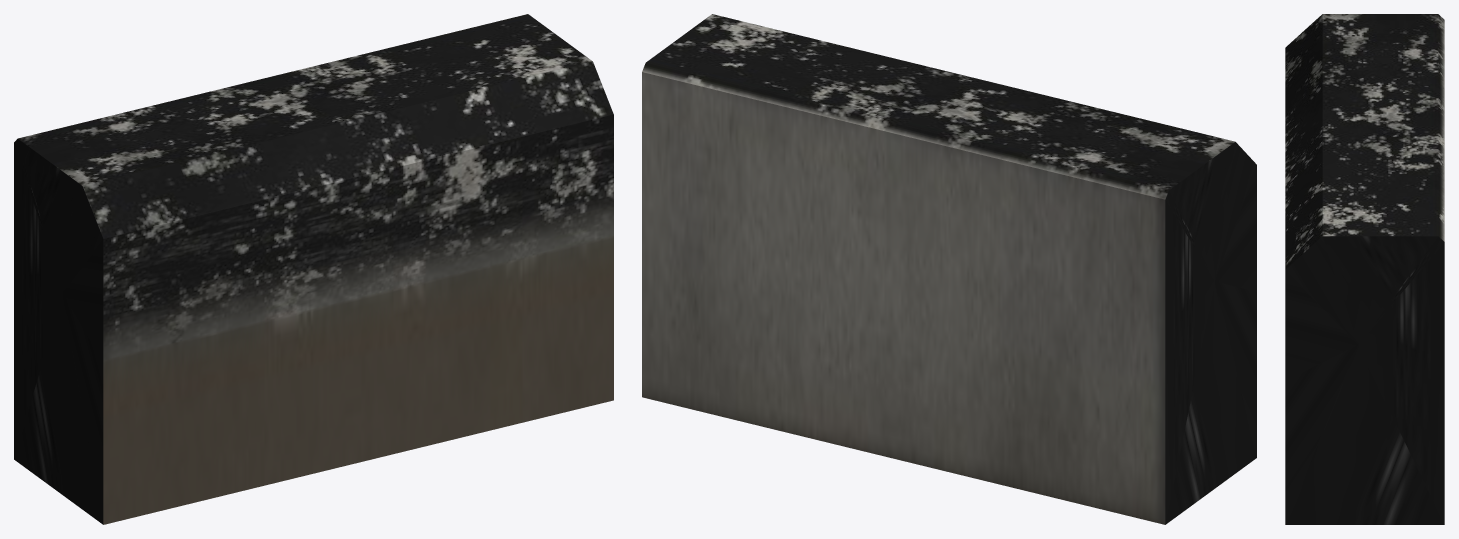
File: curb_half_black_lod1_web.glb
3 renders of one model, left to right at view 1: azimuth 30°, elevation 25°; view 2: azimuth 150°, elevation 25°; view 3: azimuth 270°, elevation 25°, orthographic. The views are drawn at different scales.
Visible parts, largest first — view 1: curb_half_black_Mesh; view 2: curb_half_black_Mesh; view 3: curb_half_black_Mesh.
Part boxes in pixels (x1,y1,x2,y2): curb_half_black_Mesh: (14,14,613,524); curb_half_black_Mesh: (642,14,1256,524); curb_half_black_Mesh: (1285,14,1444,524).
Bounding box in the file's own units: 0.495 × 0.3 × 0.15.
1 material, 1 textured.
